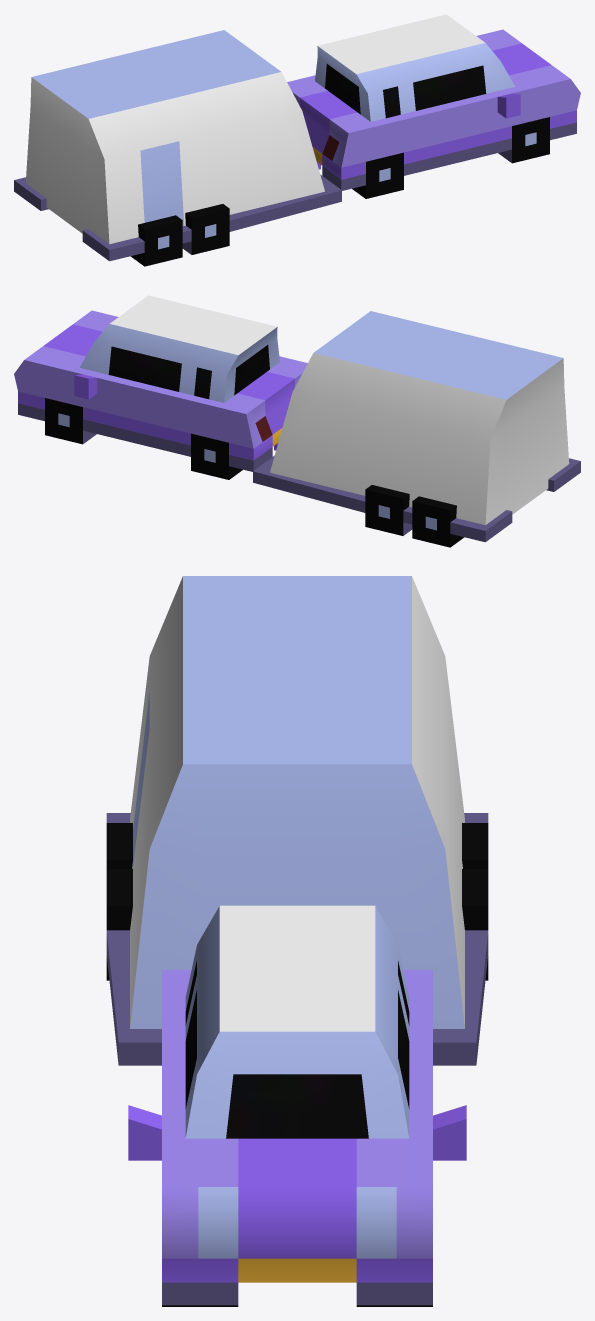
File: car6.FBX
The picture shows the model from 3 angles, top to bottom: view 1: azimuth 30°, elevation 25°; view 2: azimuth 150°, elevation 25°; view 3: azimuth 270°, elevation 25°; orthographic projection. The views are drawn at different scales.
Parts seen in each view (by area): view 1: car6; view 2: car6; view 3: car6.
Part boxes in pixels (x1,y1,x2,y2): car6: (14, 14, 580, 266); car6: (14, 295, 580, 547); car6: (106, 576, 488, 1306).
Bounding box in the file's own units: 632 × 177 × 214.
